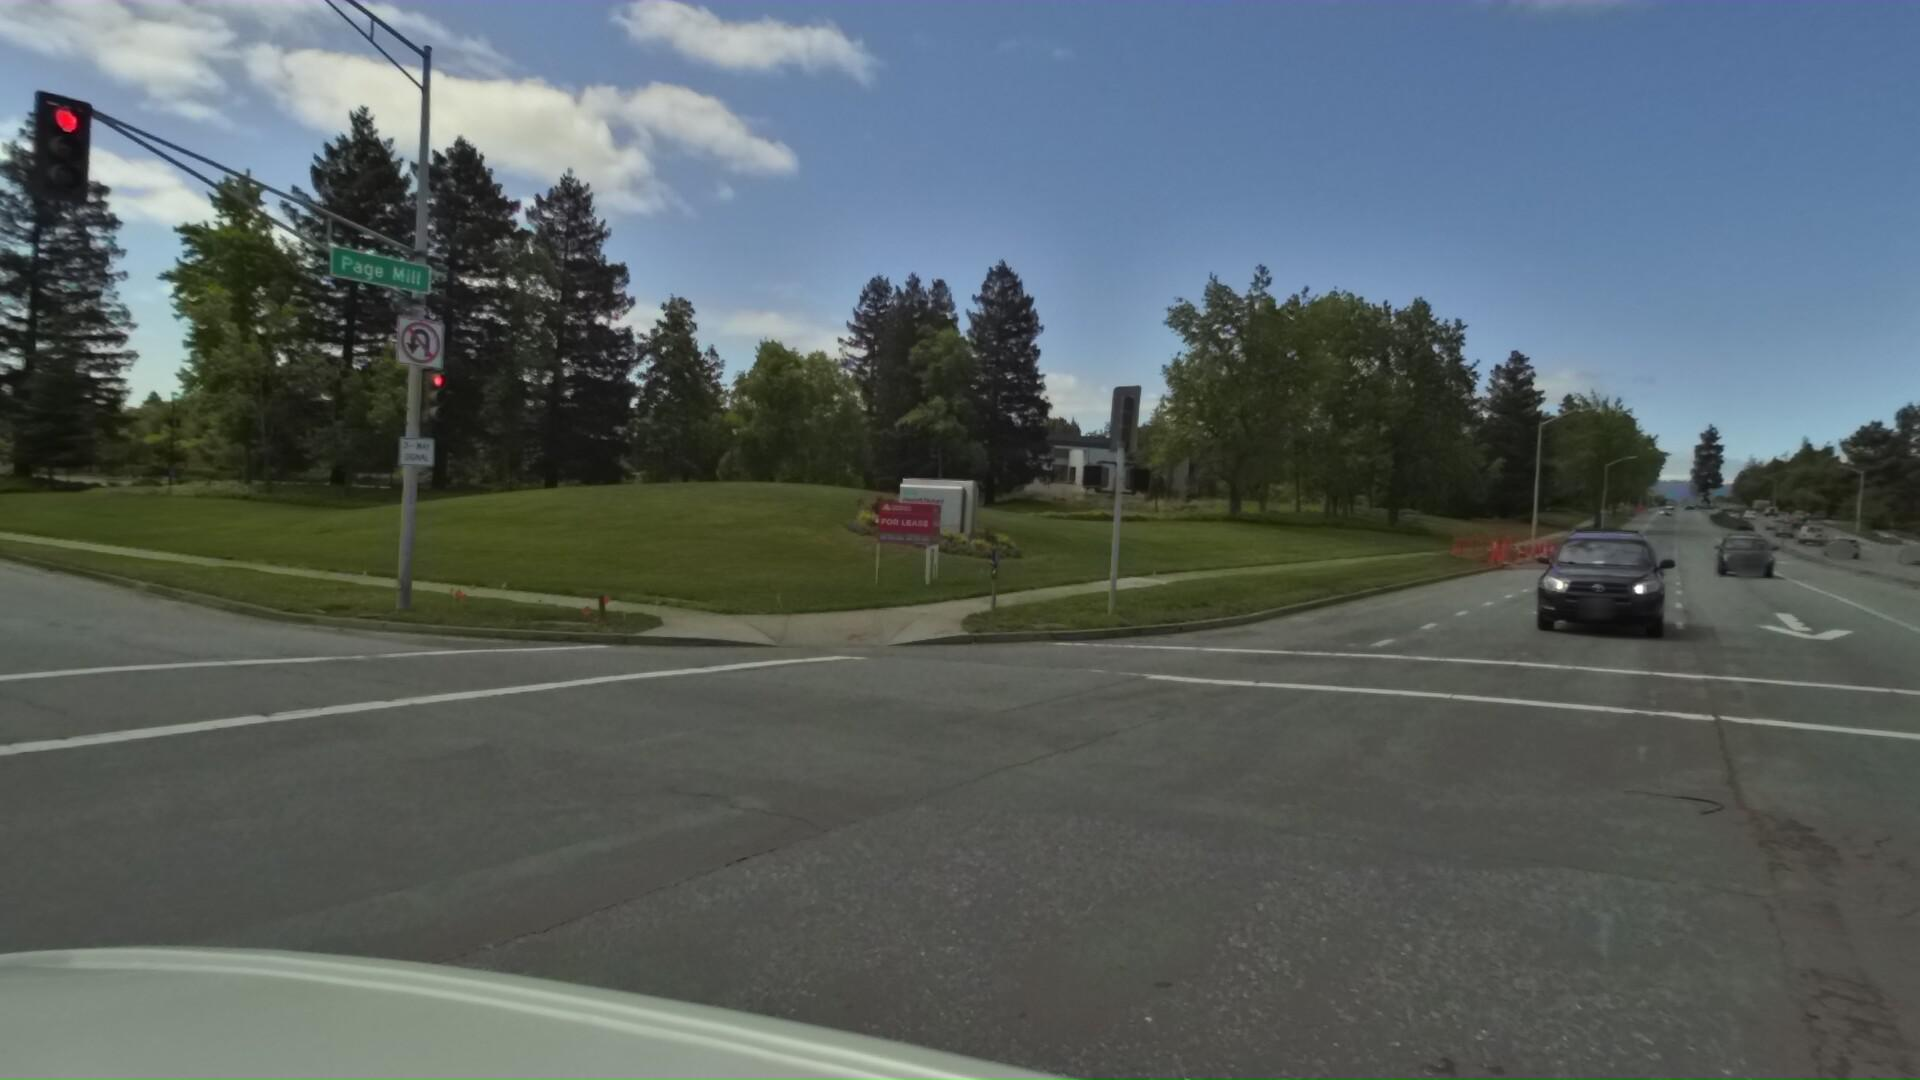car: (1503, 520, 1652, 640), (1697, 533, 1768, 575)
